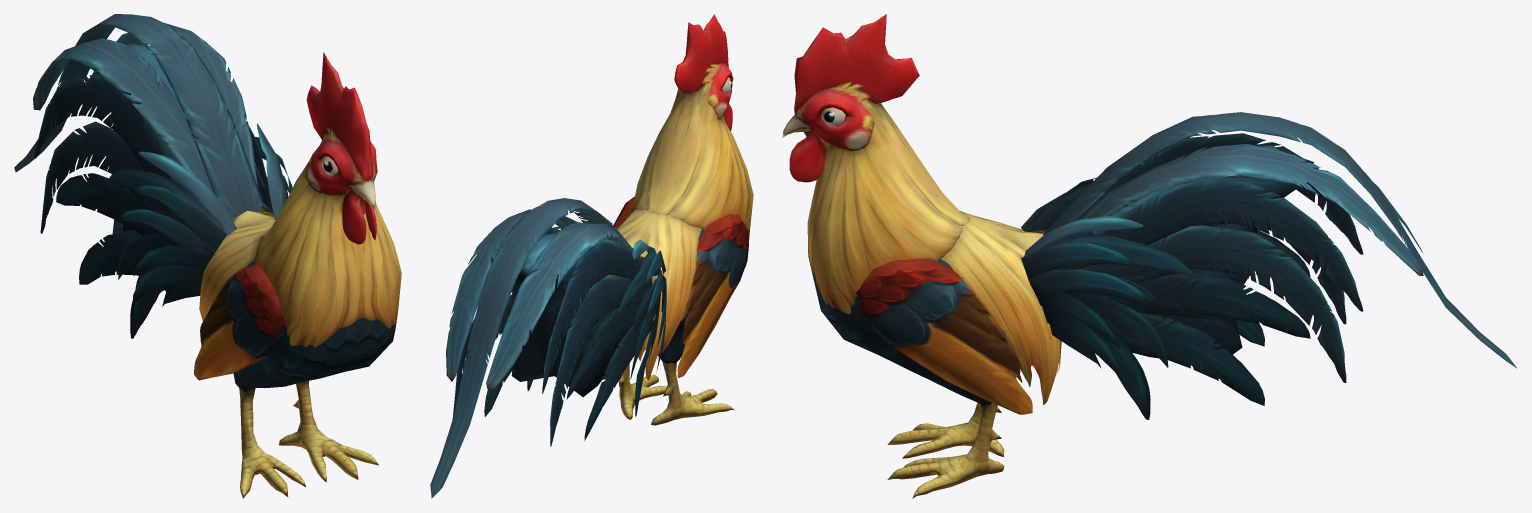
The model's file is Xo'roz.fbx.
3 renders of one model, left to right at view 1: azimuth 30°, elevation 25°; view 2: azimuth 150°, elevation 25°; view 3: azimuth 270°, elevation 25°, orthographic. The views are drawn at different scales.
Visible parts, largest first — view 1: rooster_ground1; view 2: rooster_ground1; view 3: rooster_ground1.
Boxes of the visible parts, box(x1,y1,x2,y2) form: rooster_ground1: box(14, 14, 401, 498); rooster_ground1: box(430, 14, 753, 498); rooster_ground1: box(782, 14, 1517, 498).
Bounding box in the file's own units: 45.88 × 124 × 183.
Materials: 1 (1 with a texture image).
